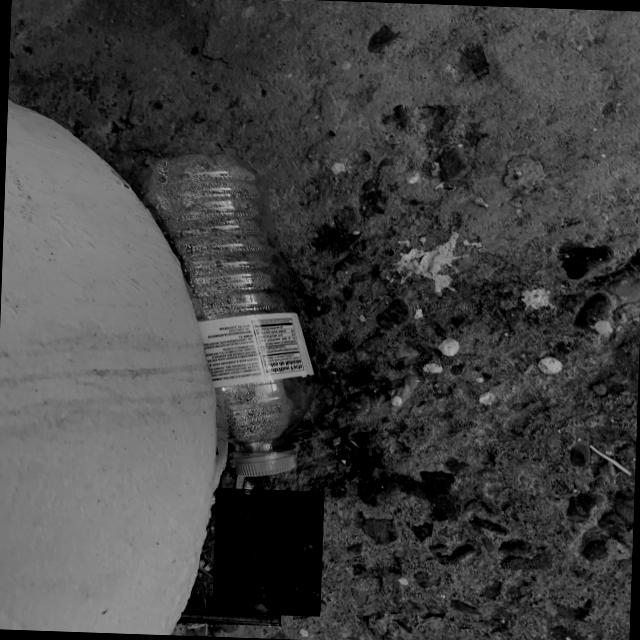Bottle cap: (233, 454, 295, 477)
Clear plastic bottle: (146, 154, 314, 476)
Straw: (212, 491, 324, 613), (181, 612, 280, 626)
